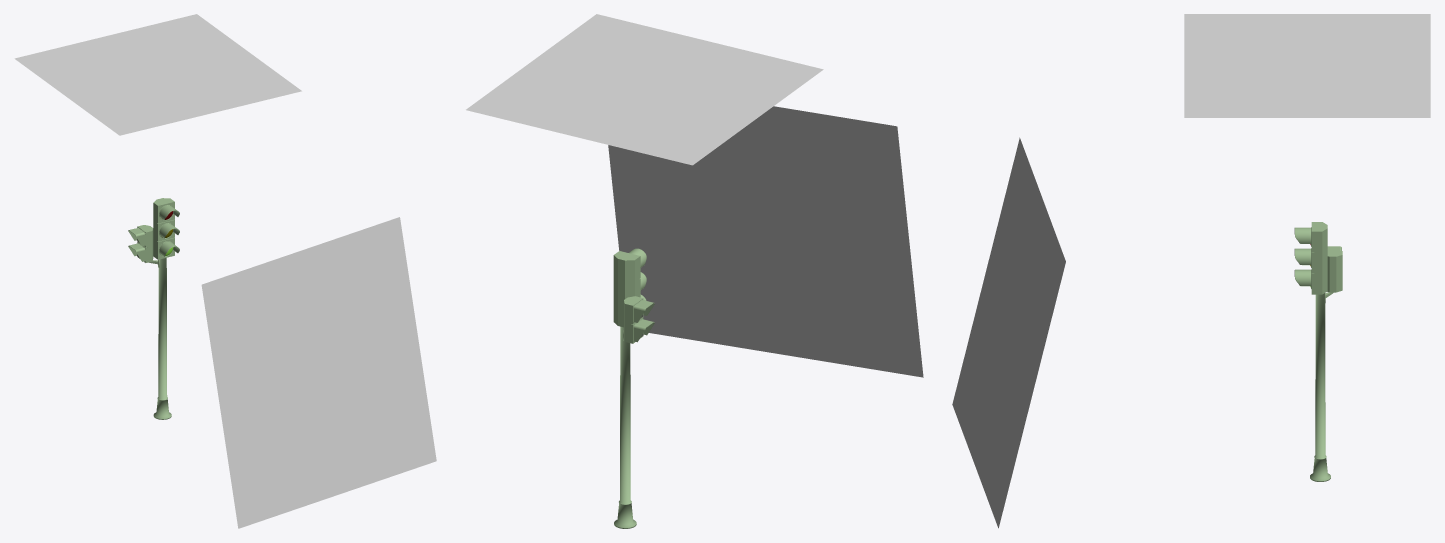
The model's file is semaforo.fbx.
The picture shows the model from 3 angles, left to right: view 1: azimuth 30°, elevation 25°; view 2: azimuth 150°, elevation 25°; view 3: azimuth 270°, elevation 25°; orthographic projection. The views are drawn at different scales.
Parts seen in each view (by area): view 1: emit.001, emit, base, big_box, circle_cover; view 2: emit.001, emit, base, big_box, box_cover, little_box; view 3: emit, emit.001, base, big_box, circle_cover, little_box.
Boxes of the visible parts, box(x1,y1,x2,y2) form: emit.001: box(201, 217, 436, 528); emit: box(14, 14, 301, 135); base: box(153, 258, 171, 419); big_box: box(153, 198, 174, 259); circle_cover: box(159, 205, 179, 256); emit.001: box(608, 106, 923, 377); emit: box(466, 14, 823, 165); base: box(614, 326, 636, 528); big_box: box(613, 251, 640, 327); box_cover: box(634, 300, 654, 342); little_box: box(624, 296, 643, 343); emit: box(1184, 14, 1430, 117); emit.001: box(952, 137, 1065, 528); base: box(1310, 293, 1330, 481); big_box: box(1311, 222, 1327, 294); circle_cover: box(1294, 227, 1310, 286); little_box: box(1327, 251, 1342, 292).
Size of what is drawn, in the model's own units: 597 by 835 by 892.
